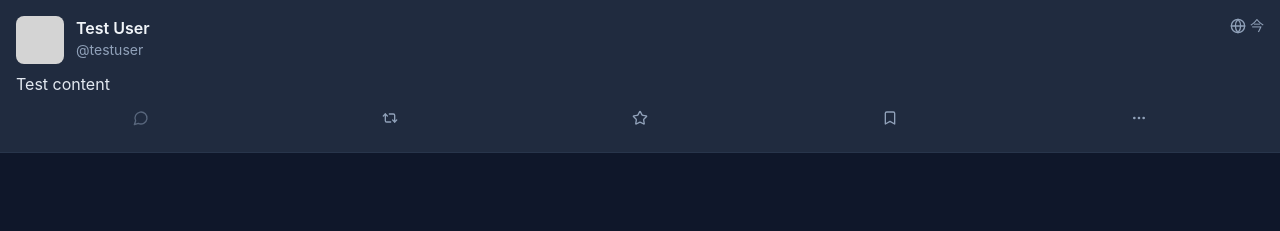
StatusCard › StatusMenu integration › should show delete option for own posts
Click the button named "メニュー". click: (1139, 118)
box: left=1121, top=100, right=1157, bottom=136
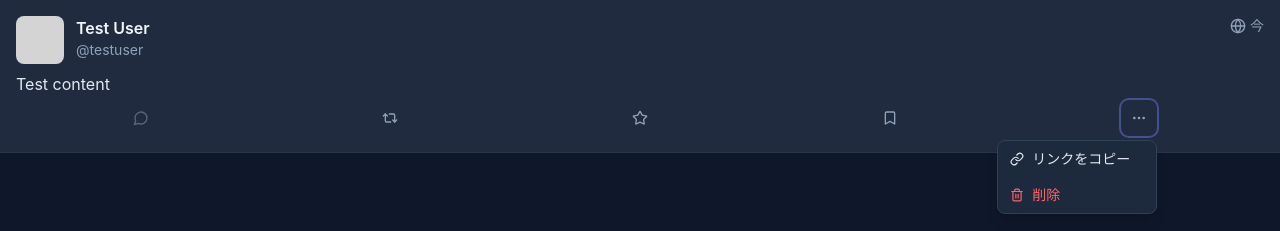
Result: the text "削除" is shown at left=1032, top=185, right=1060, bottom=205
